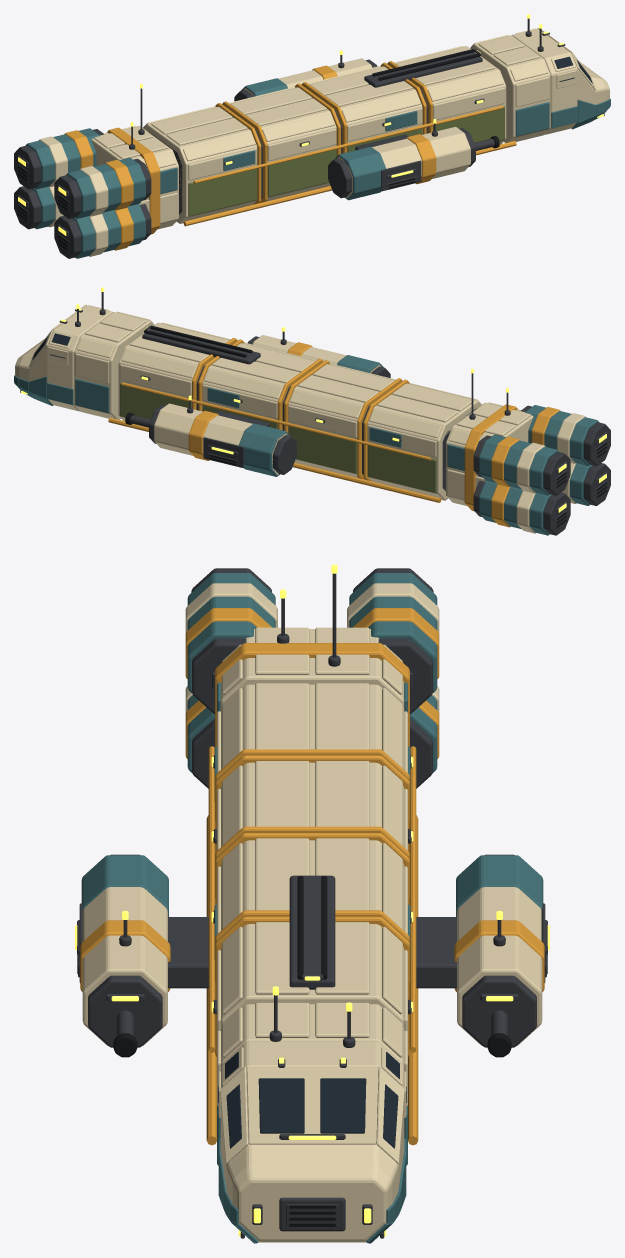
Rendered from frigate.glb.
3 views of the same model, one above another, from view 1: azimuth 30°, elevation 25°; view 2: azimuth 150°, elevation 25°; view 3: azimuth 270°, elevation 25° (orthographic). The views are drawn at different scales.
Visible parts, largest first — view 1: hull body, drive body, armament body; view 2: hull body, drive body, armament body; view 3: hull body, armament body, drive body.
Part boxes in pixels (box(x1,y1,x2,y2)): hull body: box(91, 18, 610, 234); drive body: box(14, 128, 151, 258); armament body: box(234, 55, 499, 200); hull body: box(14, 292, 533, 510); drive body: box(473, 405, 610, 535); armament body: box(125, 331, 390, 476); hull body: box(206, 573, 418, 1243); armament body: box(75, 854, 549, 1057); drive body: box(185, 568, 439, 788).
Bounding box in the file's own units: 17.39 × 3.92 × 6.47.
